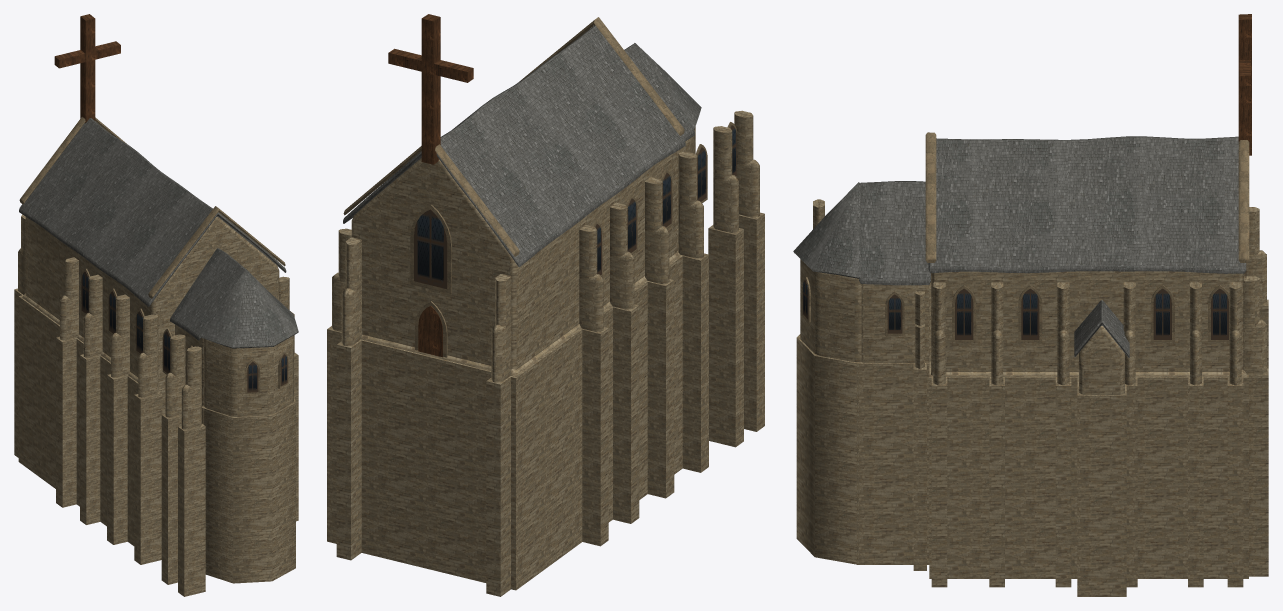
Rendered from church.glb.
3 renders of one model, left to right at view 1: azimuth 30°, elevation 25°; view 2: azimuth 150°, elevation 25°; view 3: azimuth 270°, elevation 25°, orthographic. The views are drawn at different scales.
Visible parts, largest first — view 1: church_export; view 2: church_export; view 3: church_export.
Boxes of the visible parts, <box> form: church_export: <box>14,14,298,596</box>; church_export: <box>327,14,764,596</box>; church_export: <box>793,14,1268,596</box>.
Bounding box in the file's own units: 19.14 × 43.6 × 36.
Materials: 5 (5 with a texture image).
